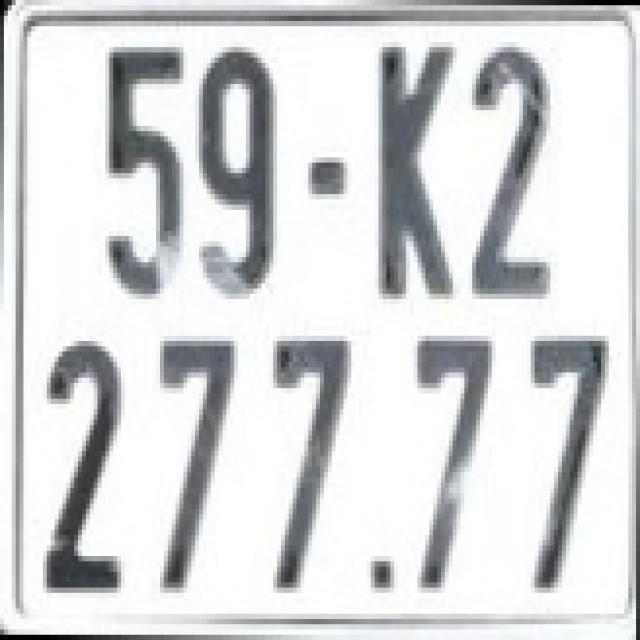2: (468, 36, 558, 304), (43, 336, 129, 593)
5: (101, 42, 188, 294)
7: (152, 336, 238, 593), (414, 330, 496, 593), (269, 330, 351, 593), (527, 330, 609, 593)
9: (195, 47, 281, 299)
K: (371, 36, 456, 304)
